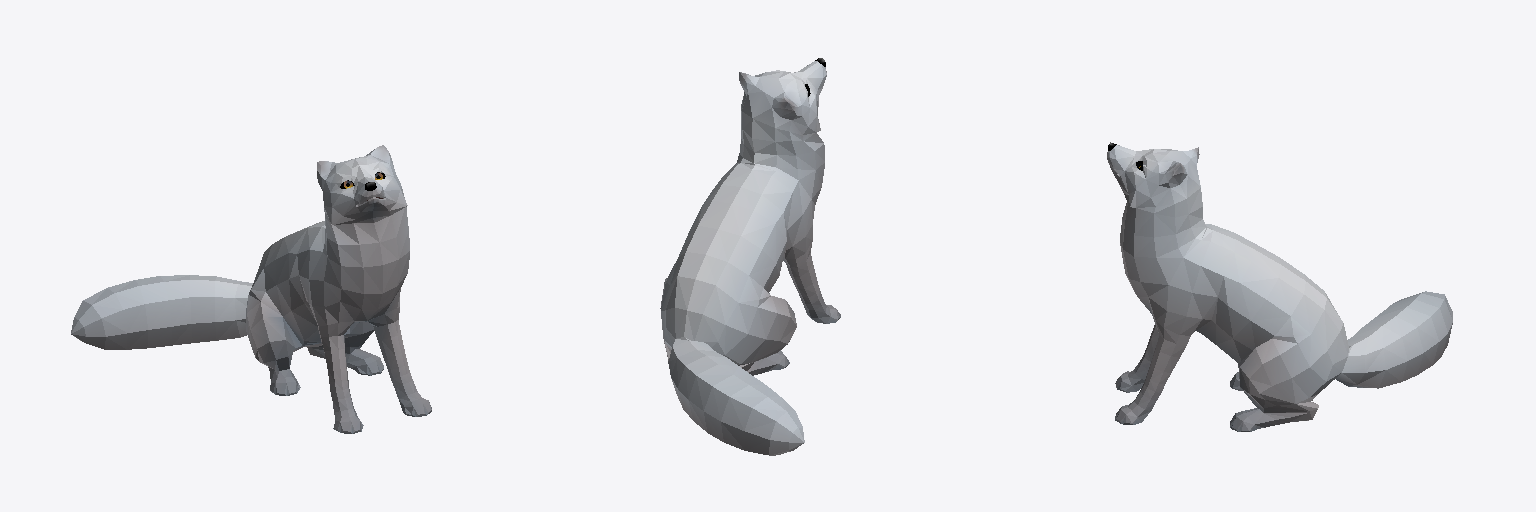
The picture shows the model from 3 angles: view 1: azimuth 30°, elevation 25°; view 2: azimuth 150°, elevation 25°; view 3: azimuth 270°, elevation 25°; orthographic projection.
Parts seen in each view (by area): view 1: ArcticFox; view 2: ArcticFox; view 3: ArcticFox.
Boxes of the visible parts, box(x1,y1,x2,y2) form: ArcticFox: box(71, 145, 431, 433); ArcticFox: box(660, 58, 840, 455); ArcticFox: box(1107, 142, 1452, 431).
Bounding box in the file's own units: 5.29 × 5.86 × 7.15.
1 materials, 1 textured.